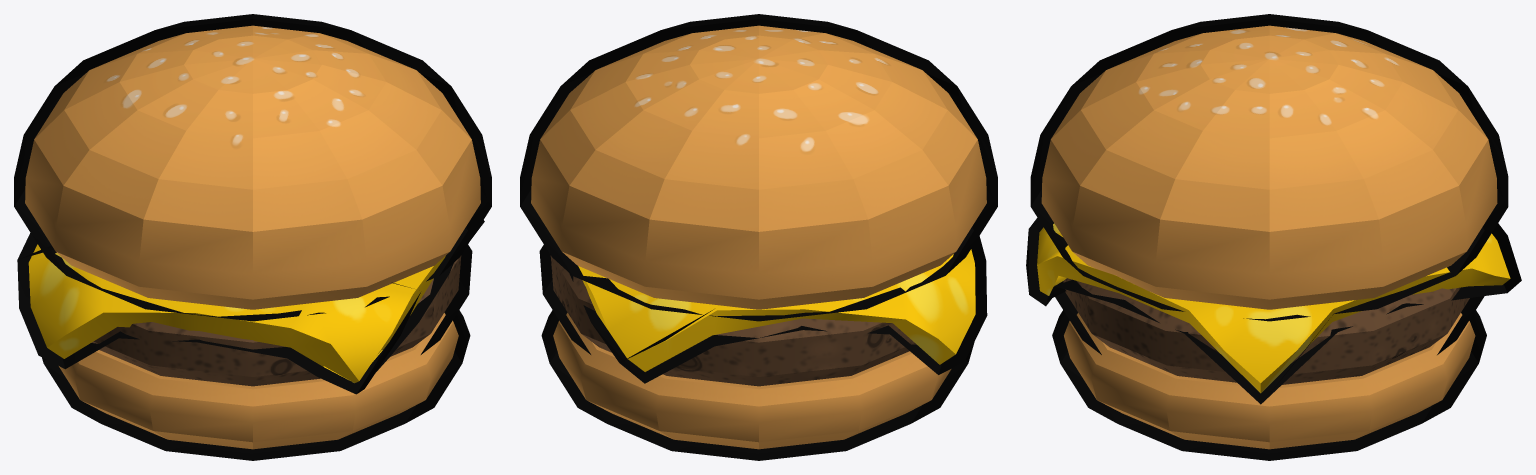
Rendered from borgir.fbx.
3 views of the same model, side by side, from view 1: azimuth 30°, elevation 25°; view 2: azimuth 150°, elevation 25°; view 3: azimuth 270°, elevation 25° (orthographic).
Visible parts, largest first — view 1: polySurface4, polySurface13; view 2: polySurface4, polySurface13; view 3: polySurface4, polySurface13.
Part boxes in pixels (<box>): polySurface4: <box>25,25,480,449</box>; polySurface13: <box>14,14,491,460</box>; polySurface4: <box>531,25,986,449</box>; polySurface13: <box>520,14,997,460</box>; polySurface4: <box>1037,25,1510,449</box>; polySurface13: <box>1026,14,1521,460</box>.
Bounding box in the file's own units: 1.27 × 1.01 × 1.28.
2 materials, 1 textured.
